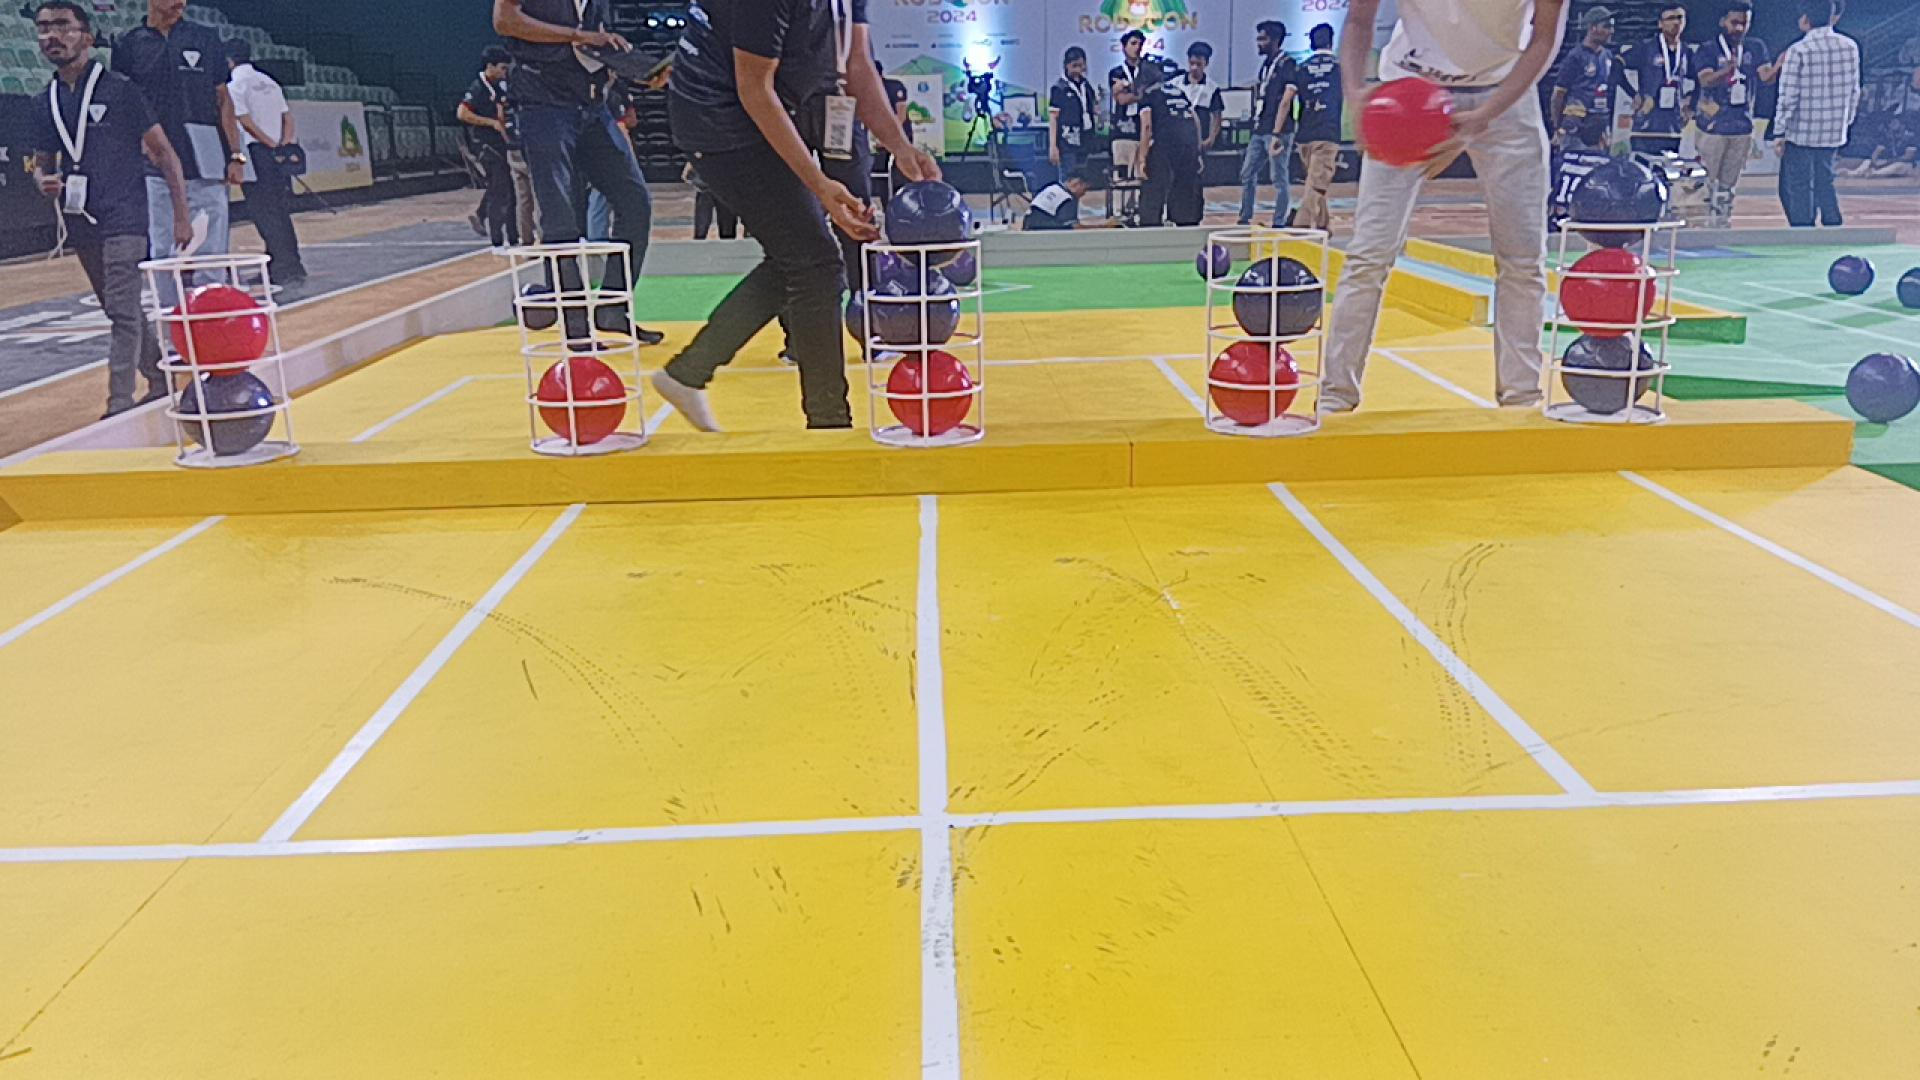dhoka: (1568, 157, 1668, 245), (1230, 255, 1324, 338), (1560, 334, 1654, 414), (870, 262, 960, 345), (885, 179, 972, 264)
laale: (1560, 248, 1658, 336), (1208, 342, 1302, 426), (889, 352, 975, 435)
